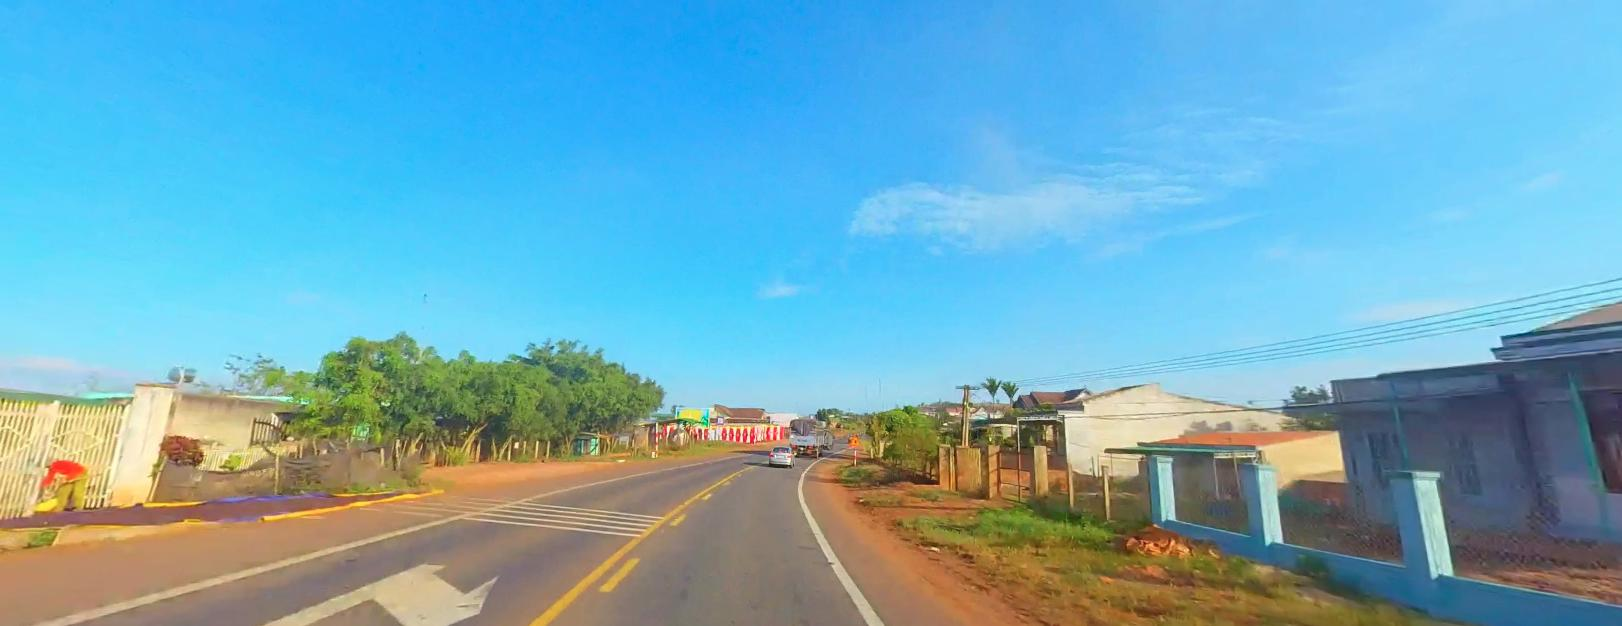Nguy hiem: (848, 433, 860, 445)
